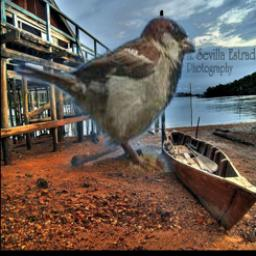Sparrow: (14, 17, 195, 173)
